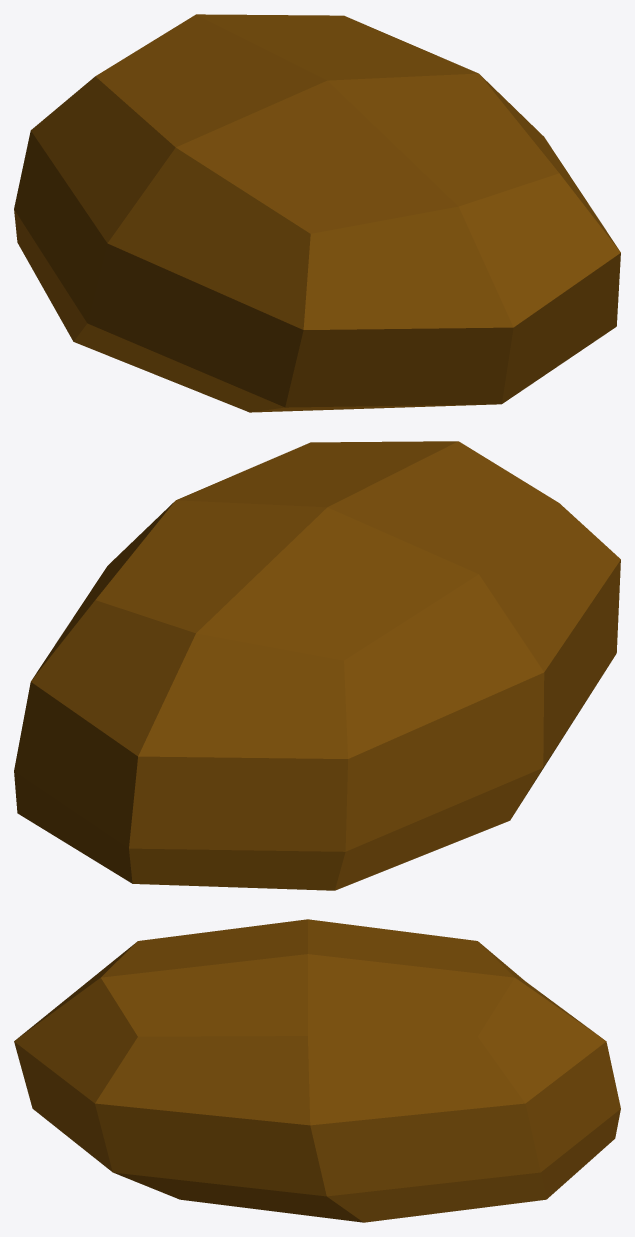
The model's file is Rock2.fbx.
3 views of the same model, one above another, from view 1: azimuth 30°, elevation 25°; view 2: azimuth 150°, elevation 25°; view 3: azimuth 270°, elevation 25° (orthographic). The views are drawn at different scales.
Parts seen in each view (by area): view 1: Rock2; view 2: Rock2; view 3: Rock2.
Part boxes in pixels (x1=…): Rock2: x1=14, y1=14, x2=620, y2=412; Rock2: x1=14, y1=441, x2=620, y2=890; Rock2: x1=14, y1=919, x2=620, y2=1222.
Bounding box in the file's own units: 268 × 183 × 91.98.
